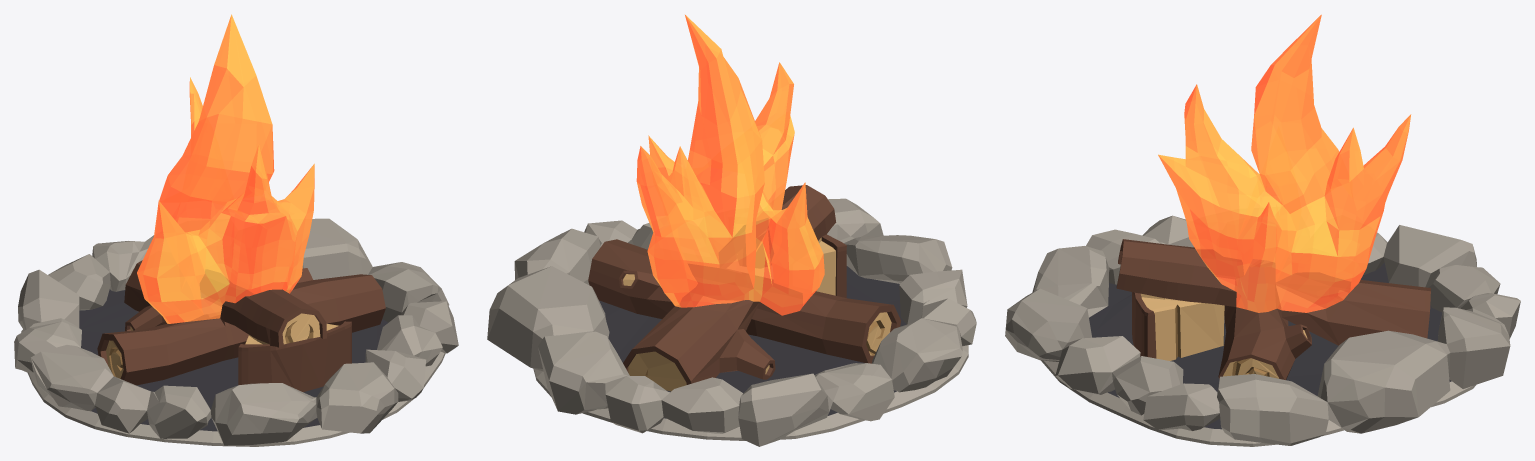
Rendered from object_bonfire.glb.
3 renders of one model, left to right at view 1: azimuth 30°, elevation 25°; view 2: azimuth 150°, elevation 25°; view 3: azimuth 270°, elevation 25°, orthographic. The views are drawn at different scales.
Parts seen in each view (by area): view 1: Campfire, plate; view 2: Campfire, plate; view 3: Campfire, plate.
Part boxes in pixels (<box>): Campfire: <box>97,14,385,391</box>; plate: <box>14,218,458,446</box>; Campfire: <box>588,15,900,391</box>; plate: <box>487,198,976,446</box>; Campfire: <box>1116,14,1430,379</box>; plate: <box>1005,215,1520,446</box>.
Size of the model in its own units: 3.1 by 2.4 by 3.24.
